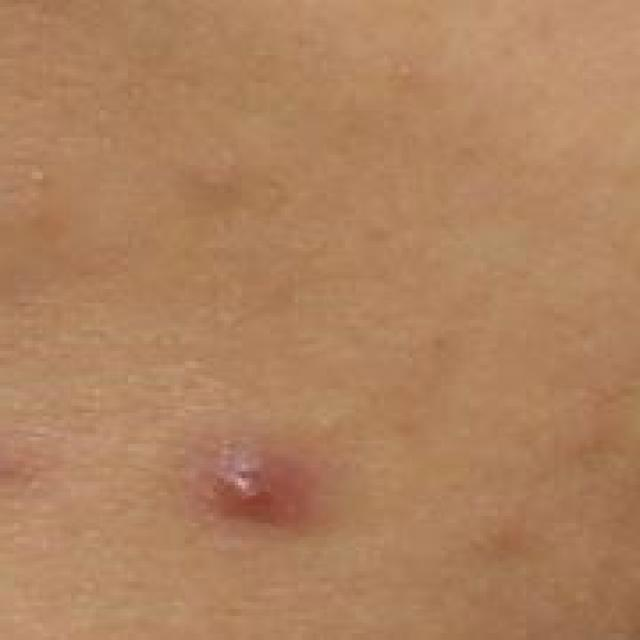Pimples: (200, 451, 294, 518)
